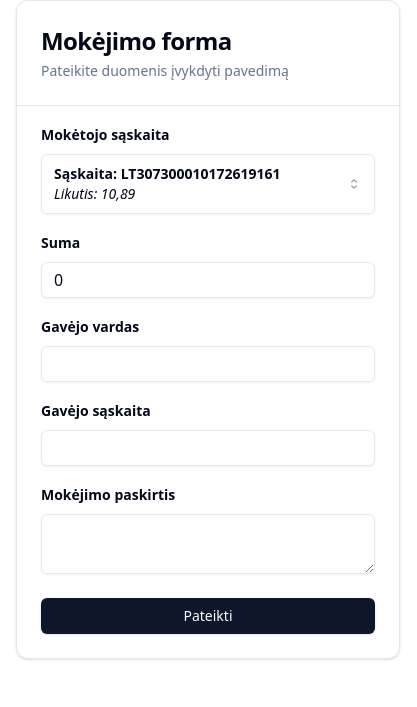
Test case: PaymentForm: Validator › should fail when required fields are not provided
Click the button "Pateikti" at (208,616), box top-left (41, 598), bottom-right (375, 634)
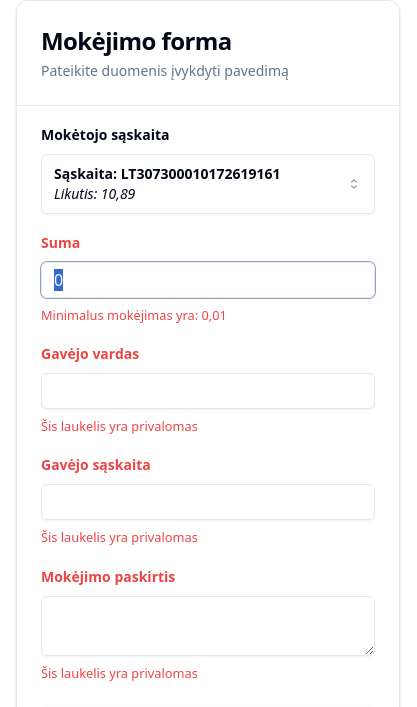
Now the text "Šis laukelis yra privalomas" is shown 3 times, box top-left (41, 417), bottom-right (198, 435); top-left (41, 528), bottom-right (198, 546); top-left (41, 664), bottom-right (198, 682)
